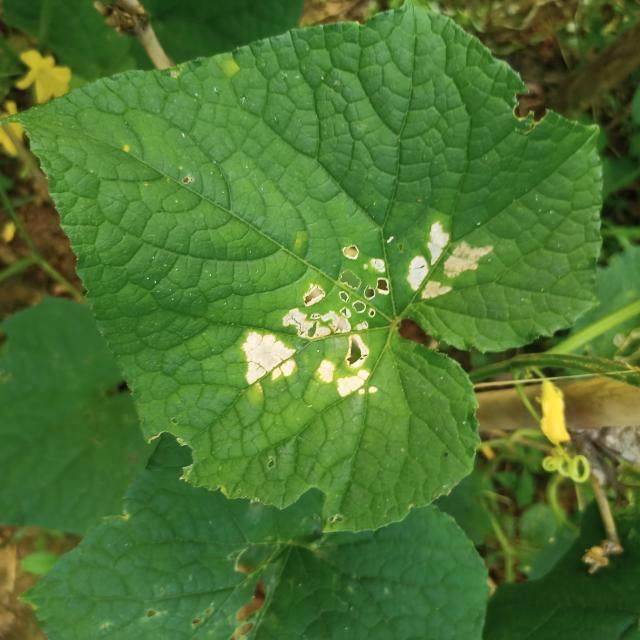disease_cucumber: (238, 239, 394, 405), (406, 216, 492, 306)
